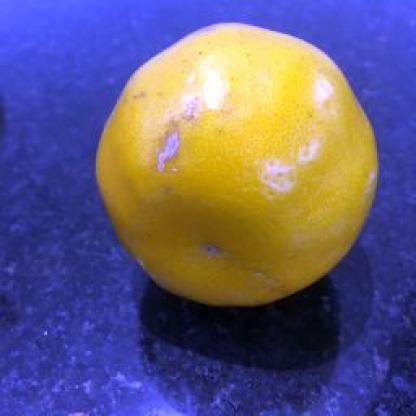orange_rotten: (93, 20, 378, 312)
